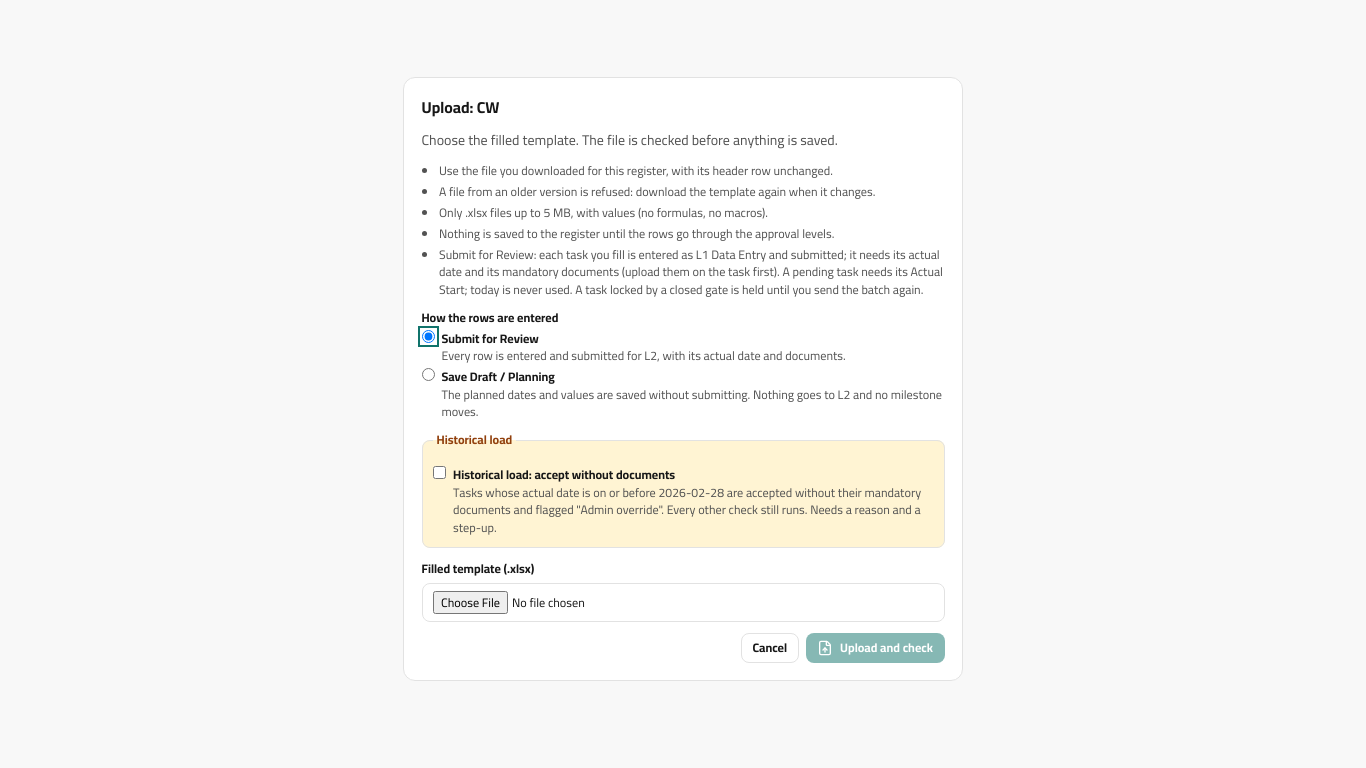
Test: the option "historical load: accept without documents" on the batch screens › is offered to a System Admin only while the waiver is open, on a stream template in submit mode
Expected: the element with test id "template-upload-mode" is shown, [422, 309, 944, 421]
Expected: the element with test id "hl-option" is shown, [422, 431, 944, 548]
Click the radio button with test id "template-upload-mode-draft" at (428, 375), box [422, 368, 434, 381]
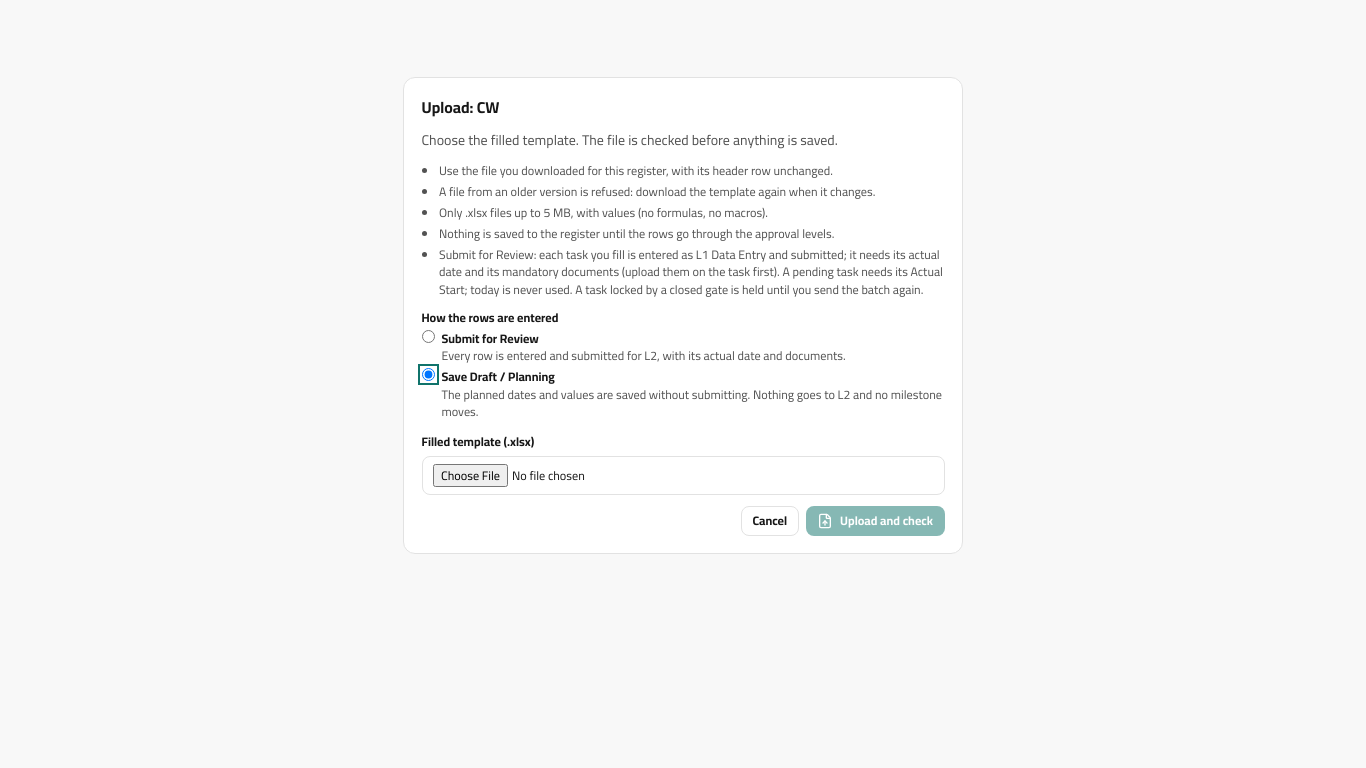
Expected: the element with test id "hl-option" is gone
